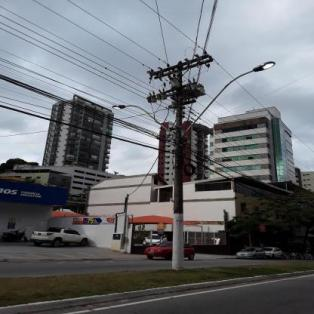Poste: (170, 59, 185, 270)
